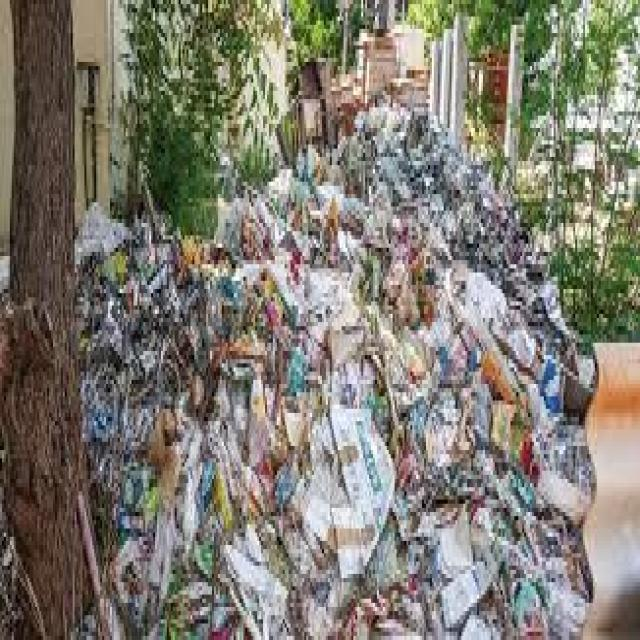heap: (233, 207, 565, 640)
